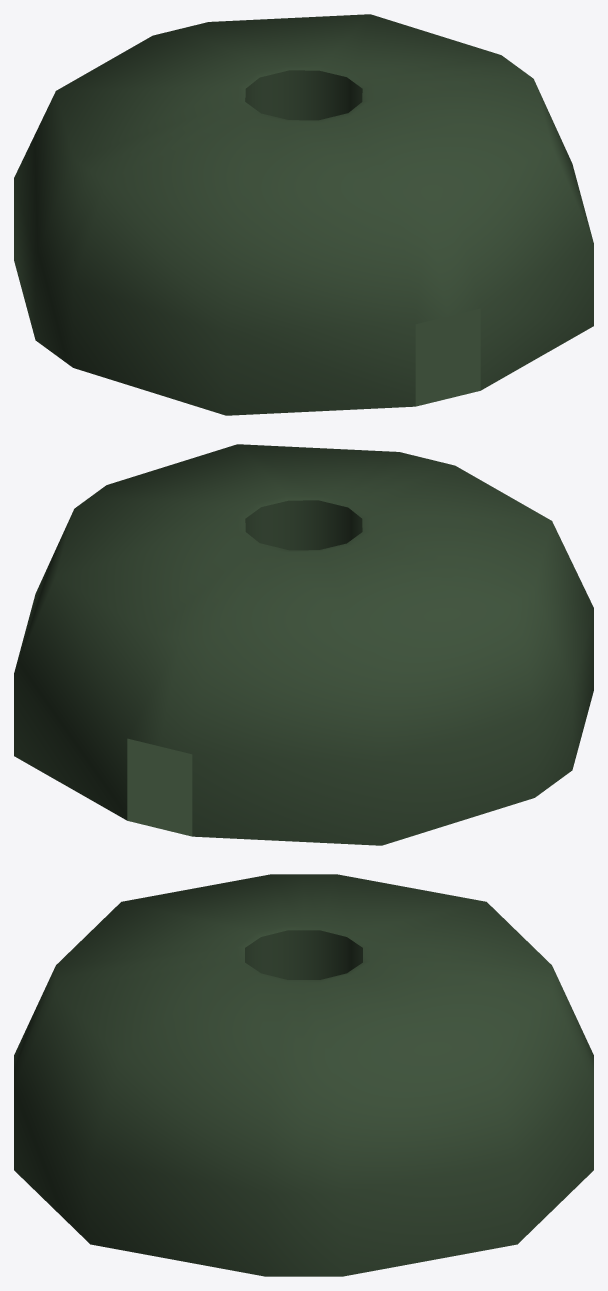
Rendered from Room_3.fbx.
3 renders of one model, top to bottom at view 1: azimuth 30°, elevation 25°; view 2: azimuth 150°, elevation 25°; view 3: azimuth 270°, elevation 25°, orthographic.
Visible parts, largest first — view 1: Room Pillar; view 2: Room Pillar; view 3: Room Pillar.
Boxes of the visible parts, x1,y1,x2,y2 form: Room Pillar: (14, 14, 593, 415); Room Pillar: (14, 444, 593, 845); Room Pillar: (14, 874, 593, 1276).
Size of the model in its own units: 1200 by 458 by 1200.
